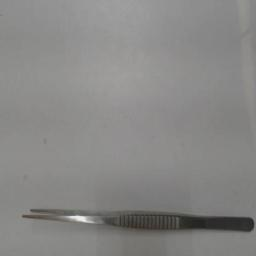DeBakey Dissector: (16, 198, 256, 236)
